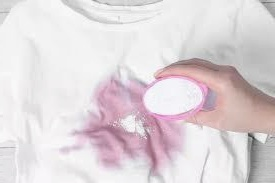ink: (88, 130, 137, 166), (93, 83, 141, 113), (150, 128, 181, 172)
